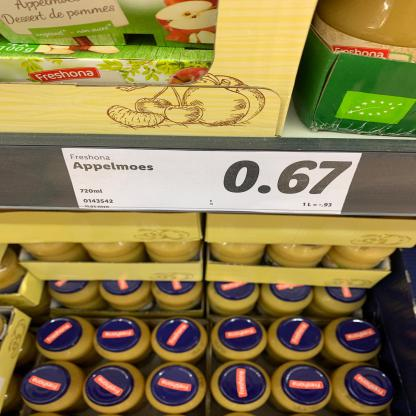prtg: (63, 149, 363, 216)
